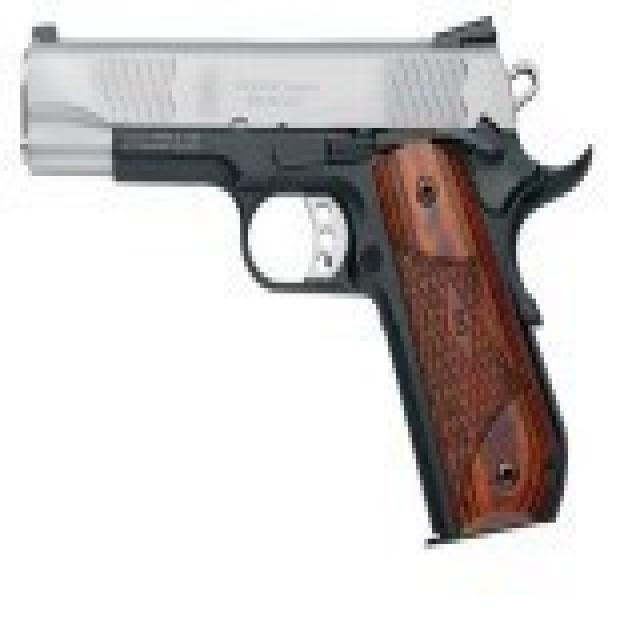Gun: (16, 1, 594, 524)
